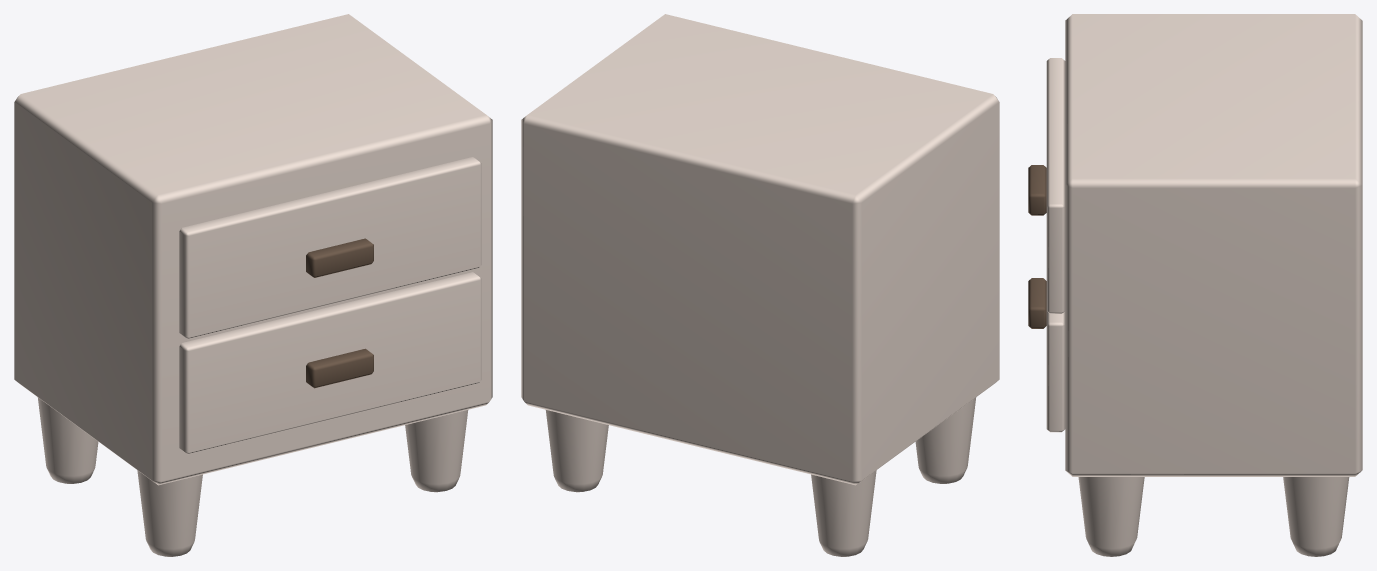
File: Cabinet_9.glb
3 views of the same model, side by side, from view 1: azimuth 30°, elevation 25°; view 2: azimuth 150°, elevation 25°; view 3: azimuth 270°, elevation 25° (orthographic). The views are drawn at different scales.
Visible parts, largest first — view 1: Cabinet_9; view 2: Cabinet_9; view 3: Cabinet_9.
Boxes of the visible parts, x1,y1,x2,y2 form: Cabinet_9: (14,14,492,556); Cabinet_9: (521,14,999,556); Cabinet_9: (1028,14,1362,556).
Bounding box in the file's own units: 0.7388 × 0.7853 × 0.6112.
1 material, 1 textured.
